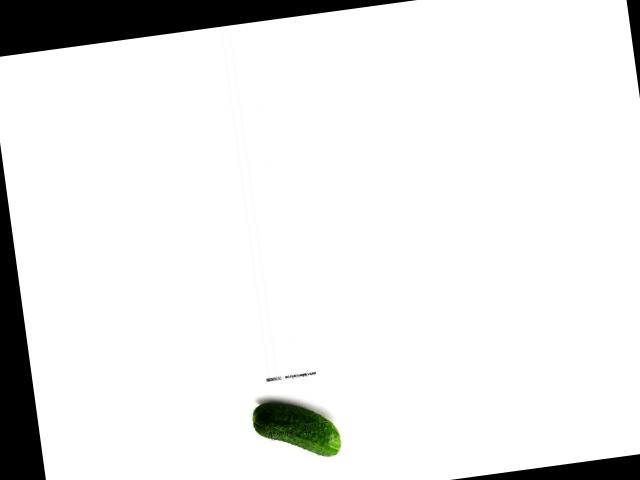cucumber: (250, 393, 342, 466)
